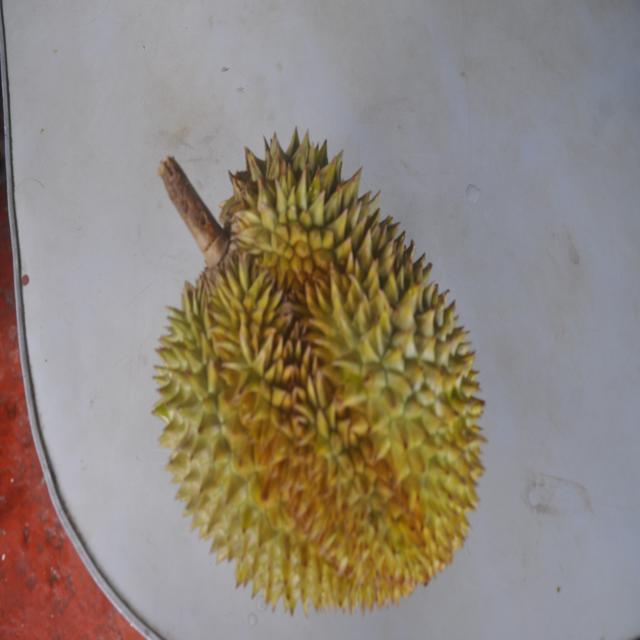mature: (150, 122, 482, 615)
